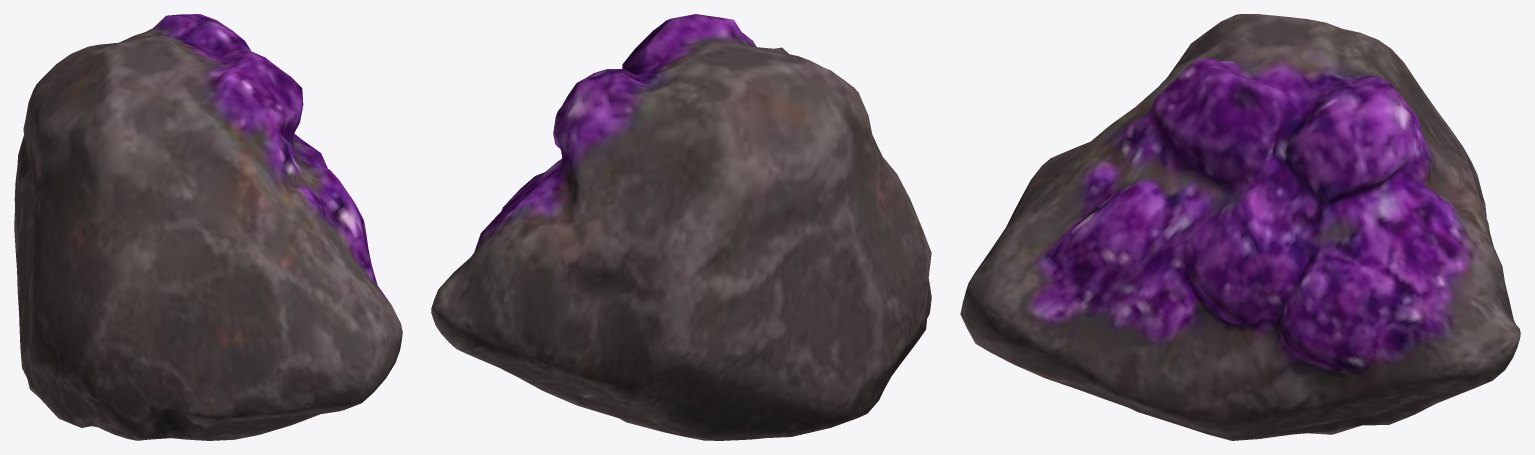
File: SM_MeteorFragment_64993d.glb
3 views of the same model, side by side, from view 1: azimuth 30°, elevation 25°; view 2: azimuth 150°, elevation 25°; view 3: azimuth 270°, elevation 25° (orthographic). The views are drawn at different scales.
Size of the model in its own units: 0.5868 by 0.5789 by 0.8267.
Materials: 1 (1 with a texture image).
